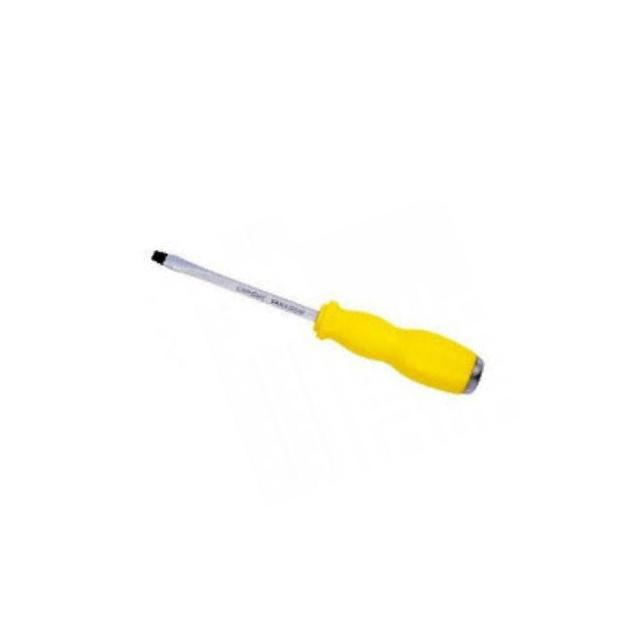screwdriver: (146, 156, 492, 483)
